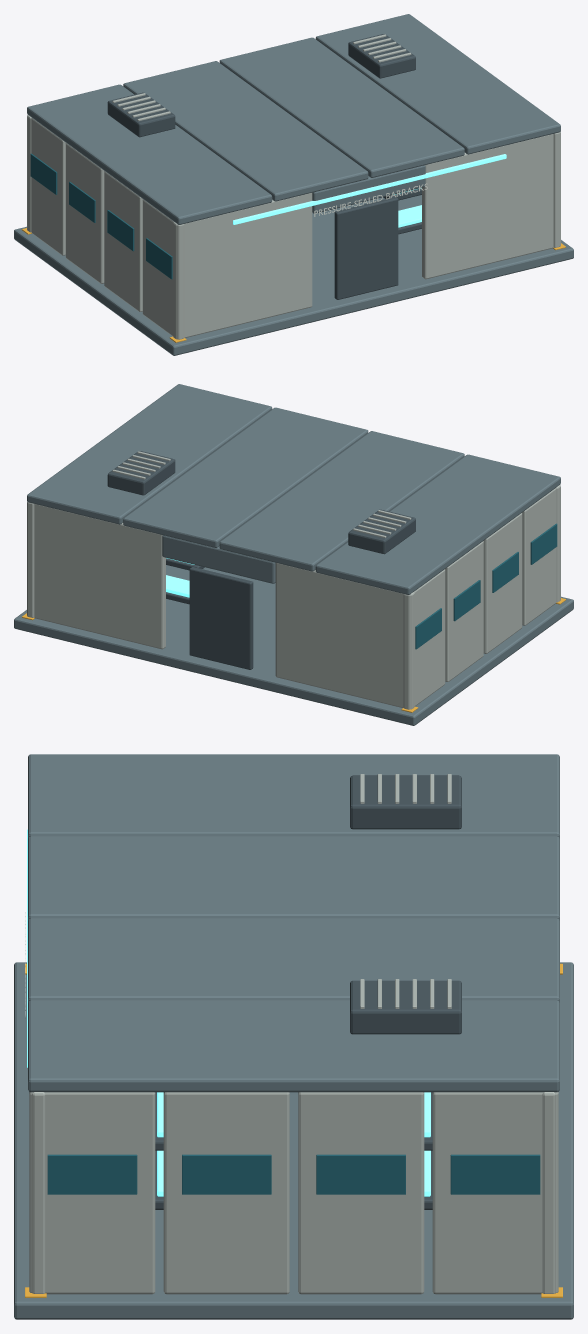
File: personnel_barracks_d0.glb
3 views of the same model, one above another, from view 1: azimuth 30°, elevation 25°; view 2: azimuth 150°, elevation 25°; view 3: azimuth 270°, elevation 25° (orthographic). The views are drawn at different scales.
Visible parts, largest first — view 1: Removable roof segment.012, End bulkhead.014, End bulkhead.015, Removable roof segment.011, Removable roof segment.010, Foundation.004, Removable roof segment.013, Sealed airlock.004, Side pressure panel.025, Side pressure panel.023, Side pressure panel.024, Side pressure panel.026 (+11 smaller); view 2: End bulkhead.016, End bulkhead.017, Removable roof segment.012, Removable roof segment.011, Removable roof segment.010, Foundation.004, Removable roof segment.013, Sealed airlock.005, Side pressure panel.024, Side pressure panel.026, Side pressure panel.025, Side pressure panel.023 (+9 smaller); view 3: Removable roof segment.013, Removable roof segment.011, Removable roof segment.012, Removable roof segment.010, Foundation.004, Side pressure panel.028, Side pressure panel.029, Side pressure panel.027, Side pressure panel.030, Roof heat exchanger.005, Roof heat exchanger.006, Observation glass.024 (+5 smaller).
Boxes of the visible parts, <box> form: Removable roof segment.012: <box>219,37,464,177</box>; End bulkhead.014: <box>173,193,312,339</box>; End bulkhead.015: <box>422,132,560,279</box>; Removable roof segment.011: <box>123,61,368,201</box>; Removable roof segment.010: <box>27,84,272,224</box>; Foundation.004: <box>14,195,573,355</box>; Removable roof segment.013: <box>315,14,560,154</box>; Sealed airlock.004: <box>334,197,398,299</box>; Side pressure panel.025: <box>65,143,104,283</box>; Side pressure panel.023: <box>142,199,184,339</box>; Side pressure panel.024: <box>104,171,142,311</box>; Side pressure panel.026: <box>27,115,65,255</box>; End bulkhead.016: <box>275,563,414,709</box>; End bulkhead.017: <box>27,502,165,649</box>; Removable roof segment.012: <box>123,407,368,547</box>; Removable roof segment.011: <box>219,431,464,571</box>; Removable roof segment.010: <box>315,454,560,594</box>; Foundation.004: <box>14,565,573,725</box>; Removable roof segment.013: <box>27,384,272,524</box>; Sealed airlock.005: <box>189,567,253,669</box>; Side pressure panel.024: <box>483,513,522,653</box>; Side pressure panel.026: <box>403,569,445,709</box>; Side pressure panel.025: <box>445,541,483,681</box>; Side pressure panel.023: <box>522,485,560,625</box>; Removable roof segment.013: <box>28,1000,559,1092</box>; Removable roof segment.011: <box>28,836,559,920</box>; Removable roof segment.012: <box>28,918,559,1002</box>; Removable roof segment.010: <box>28,754,559,838</box>; Foundation.004: <box>14,962,573,1319</box>; Side pressure panel.028: <box>163,1092,289,1294</box>; Side pressure panel.029: <box>298,1092,424,1294</box>; Side pressure panel.027: <box>29,1092,155,1294</box>; Side pressure panel.030: <box>432,1092,558,1294</box>; Roof heat exchanger.005: <box>350,775,461,829</box>; Roof heat exchanger.006: <box>350,980,461,1034</box>; Observation glass.024: <box>47,1154,137,1194</box>.
Bounding box in the file's own units: 13 × 4.61 × 9.
